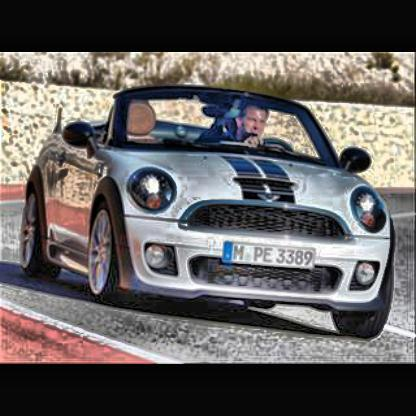MINI Cooper Roadster Convertible 2012: (22, 89, 397, 343)
